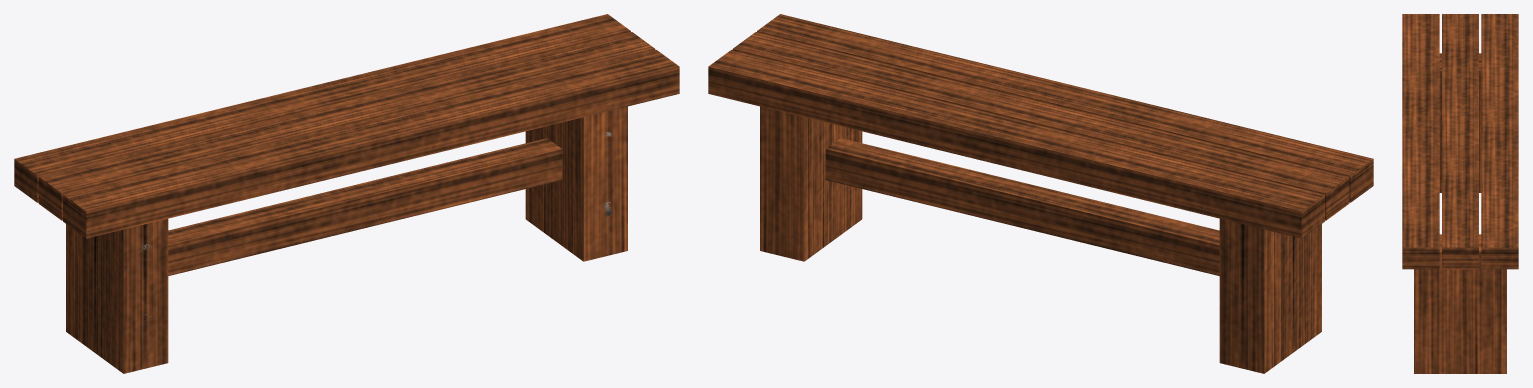
The model's file is bench.glb.
3 renders of one model, left to right at view 1: azimuth 30°, elevation 25°; view 2: azimuth 150°, elevation 25°; view 3: azimuth 270°, elevation 25°, orthographic. The views are drawn at different scales.
Parts seen in each view (by area): view 1: bench; view 2: bench; view 3: bench.
Part boxes in pixels (x1,y1,x2,y2): bench: [14, 14, 679, 373]; bench: [708, 14, 1373, 373]; bench: [1402, 14, 1518, 373].
Size of the model in its own units: 1.6 by 0.46 by 0.336.
3 materials, 2 textured.
